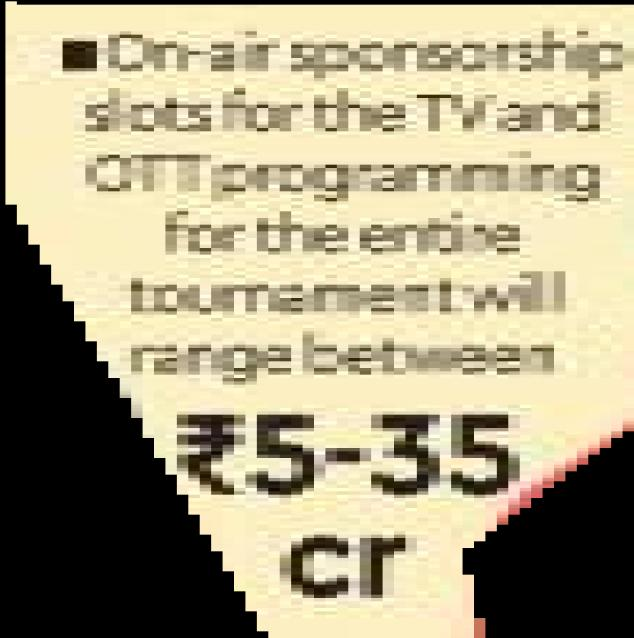paper: (1, 0, 634, 637)
